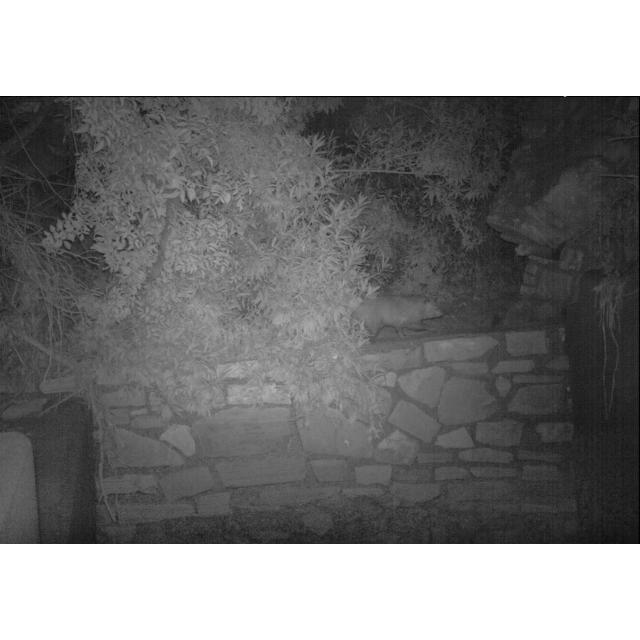animals: (346, 293, 446, 343)
